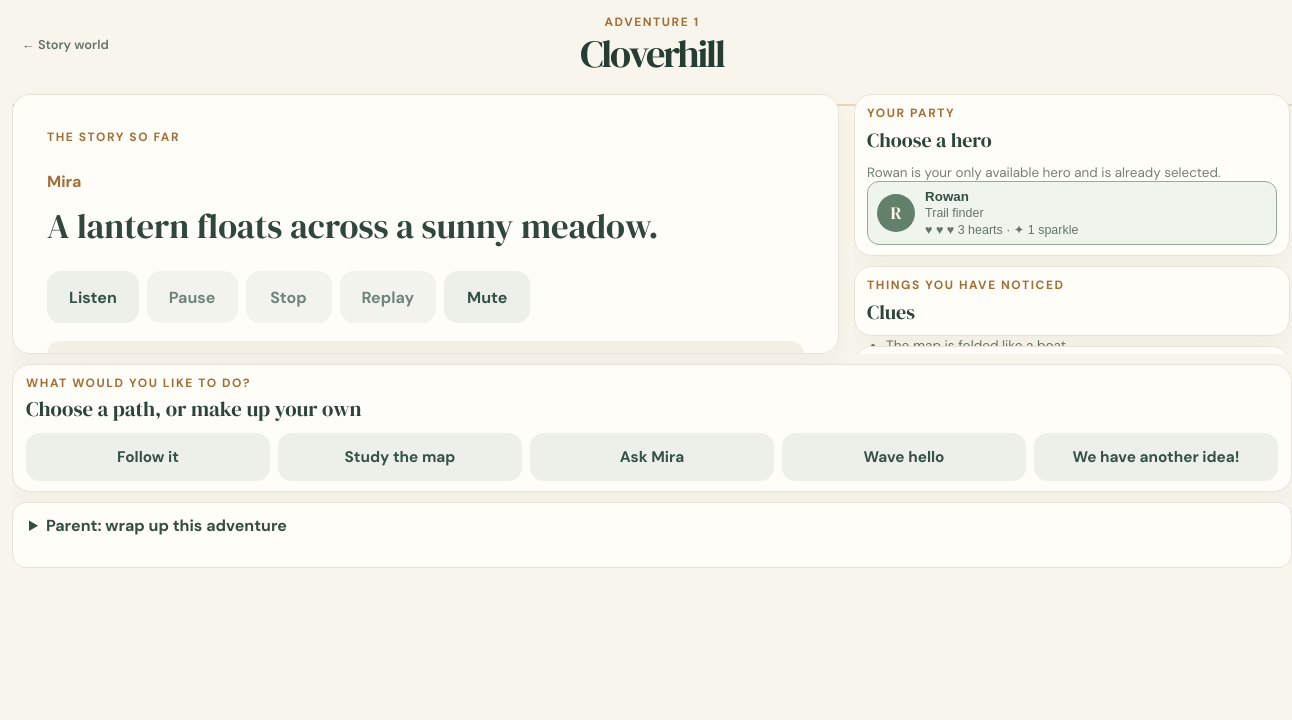
Test: AdventurePlayScreen › falls back to visible text when the server cannot provide audio
Step 1. Click the button with aria-label "Listen to narration" → {"x": 93, "y": 297}, box [47,271,139,323]
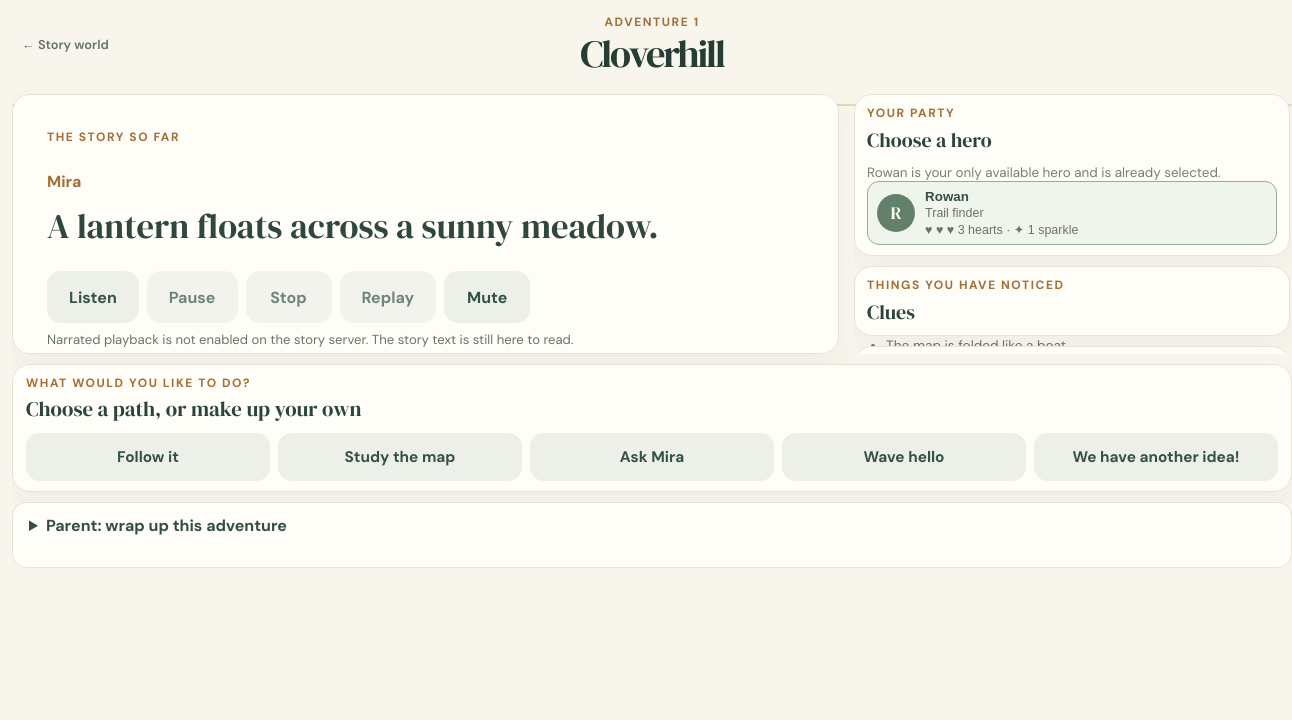
Expected: the text "A lantern floats across a sunny meadow." is shown, [47,202,659,250]
Now the text "not enabled on the story server" is shown, box [47,331,573,348]
